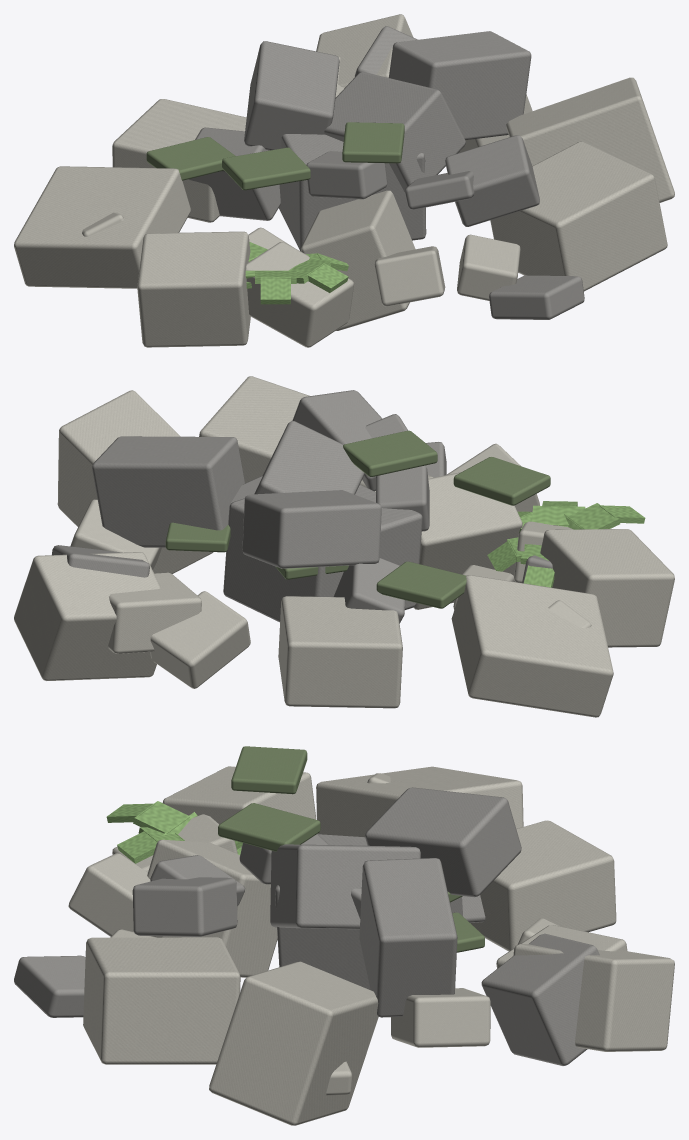
File: jungle-temple-and-stone-city-rubble-pile-f4f42e06__36121.glb
3 views of the same model, one above another, from view 1: azimuth 30°, elevation 25°; view 2: azimuth 150°, elevation 25°; view 3: azimuth 270°, elevation 25° (orthographic). The views are drawn at different scales.
Visible parts, largest first — view 1: rubble-pile; view 2: rubble-pile; view 3: rubble-pile.
Part boxes in pixels (x1,y1,x2,y2): rubble-pile: [14, 14, 674, 347]; rubble-pile: [14, 376, 674, 717]; rubble-pile: [14, 746, 674, 1125].
Bounding box in the file's own units: 2.76 × 0.7987 × 2.4.
4 materials, 4 textured.
